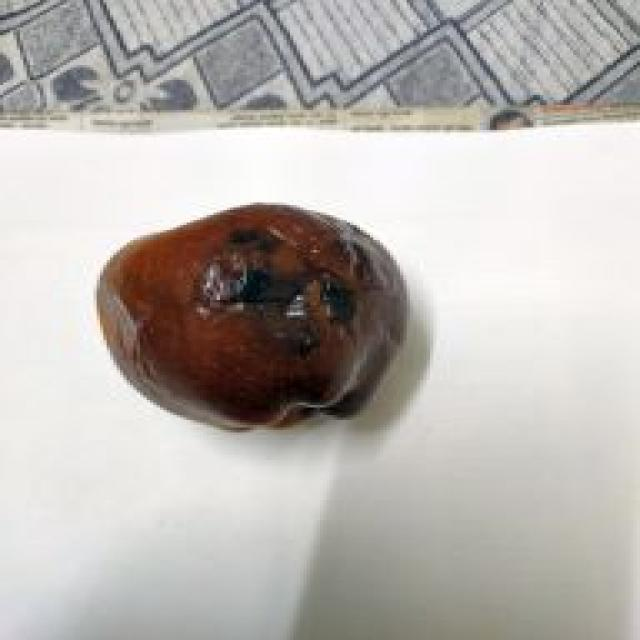Bad_Apple: (97, 204, 407, 429)
